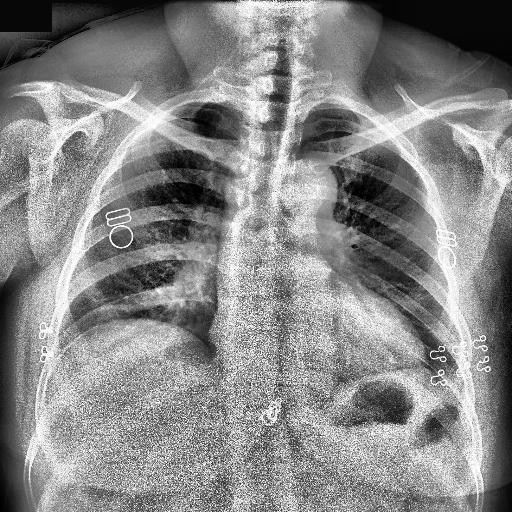0- Aortic enlargement: (274, 160, 338, 218), (272, 160, 338, 214), (286, 157, 338, 213)
3- Cardiomegaly: (209, 320, 430, 382), (207, 308, 427, 370)
